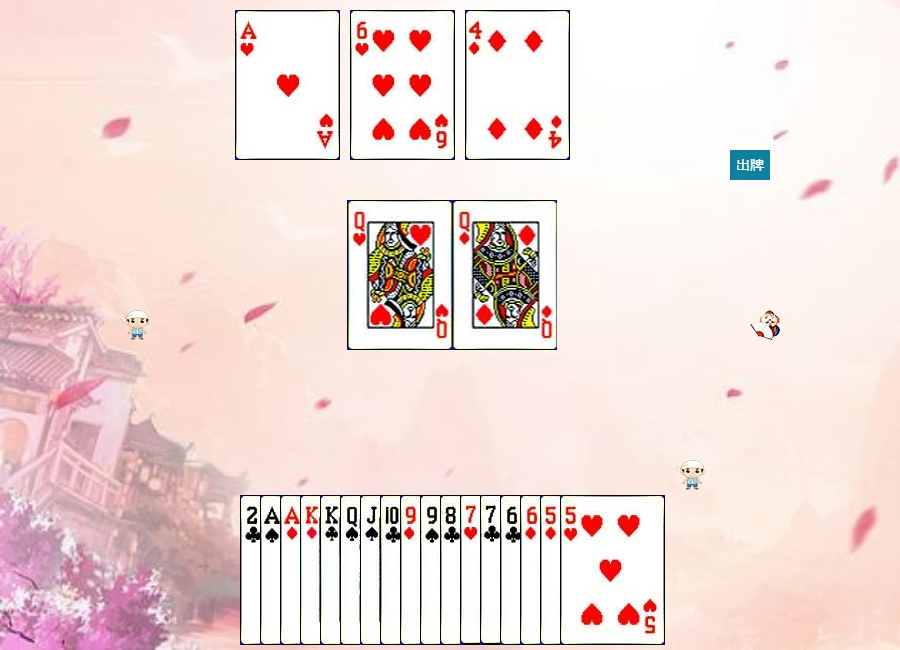10~2: (380, 495, 485, 645)
11~4: (360, 495, 465, 645)
12~1: (453, 200, 558, 350)
12~3: (348, 200, 453, 350)
12~4: (340, 495, 445, 645)
13~1: (300, 495, 405, 645)
13~2: (320, 495, 425, 645)
14~1: (280, 495, 385, 645)
14~3: (235, 10, 340, 160)
14~4: (260, 495, 365, 645)
15~2: (240, 495, 345, 645)
4~1: (465, 10, 570, 160)
5~1: (540, 495, 645, 645)
5~3: (560, 495, 665, 645)
6~1: (520, 495, 625, 645)
6~2: (500, 495, 605, 645)
6~3: (350, 10, 455, 160)
7~2: (480, 495, 585, 645)
7~3: (460, 495, 565, 645)
8~2: (440, 495, 545, 645)
9~1: (400, 495, 505, 645)
9~4: (420, 495, 525, 645)
